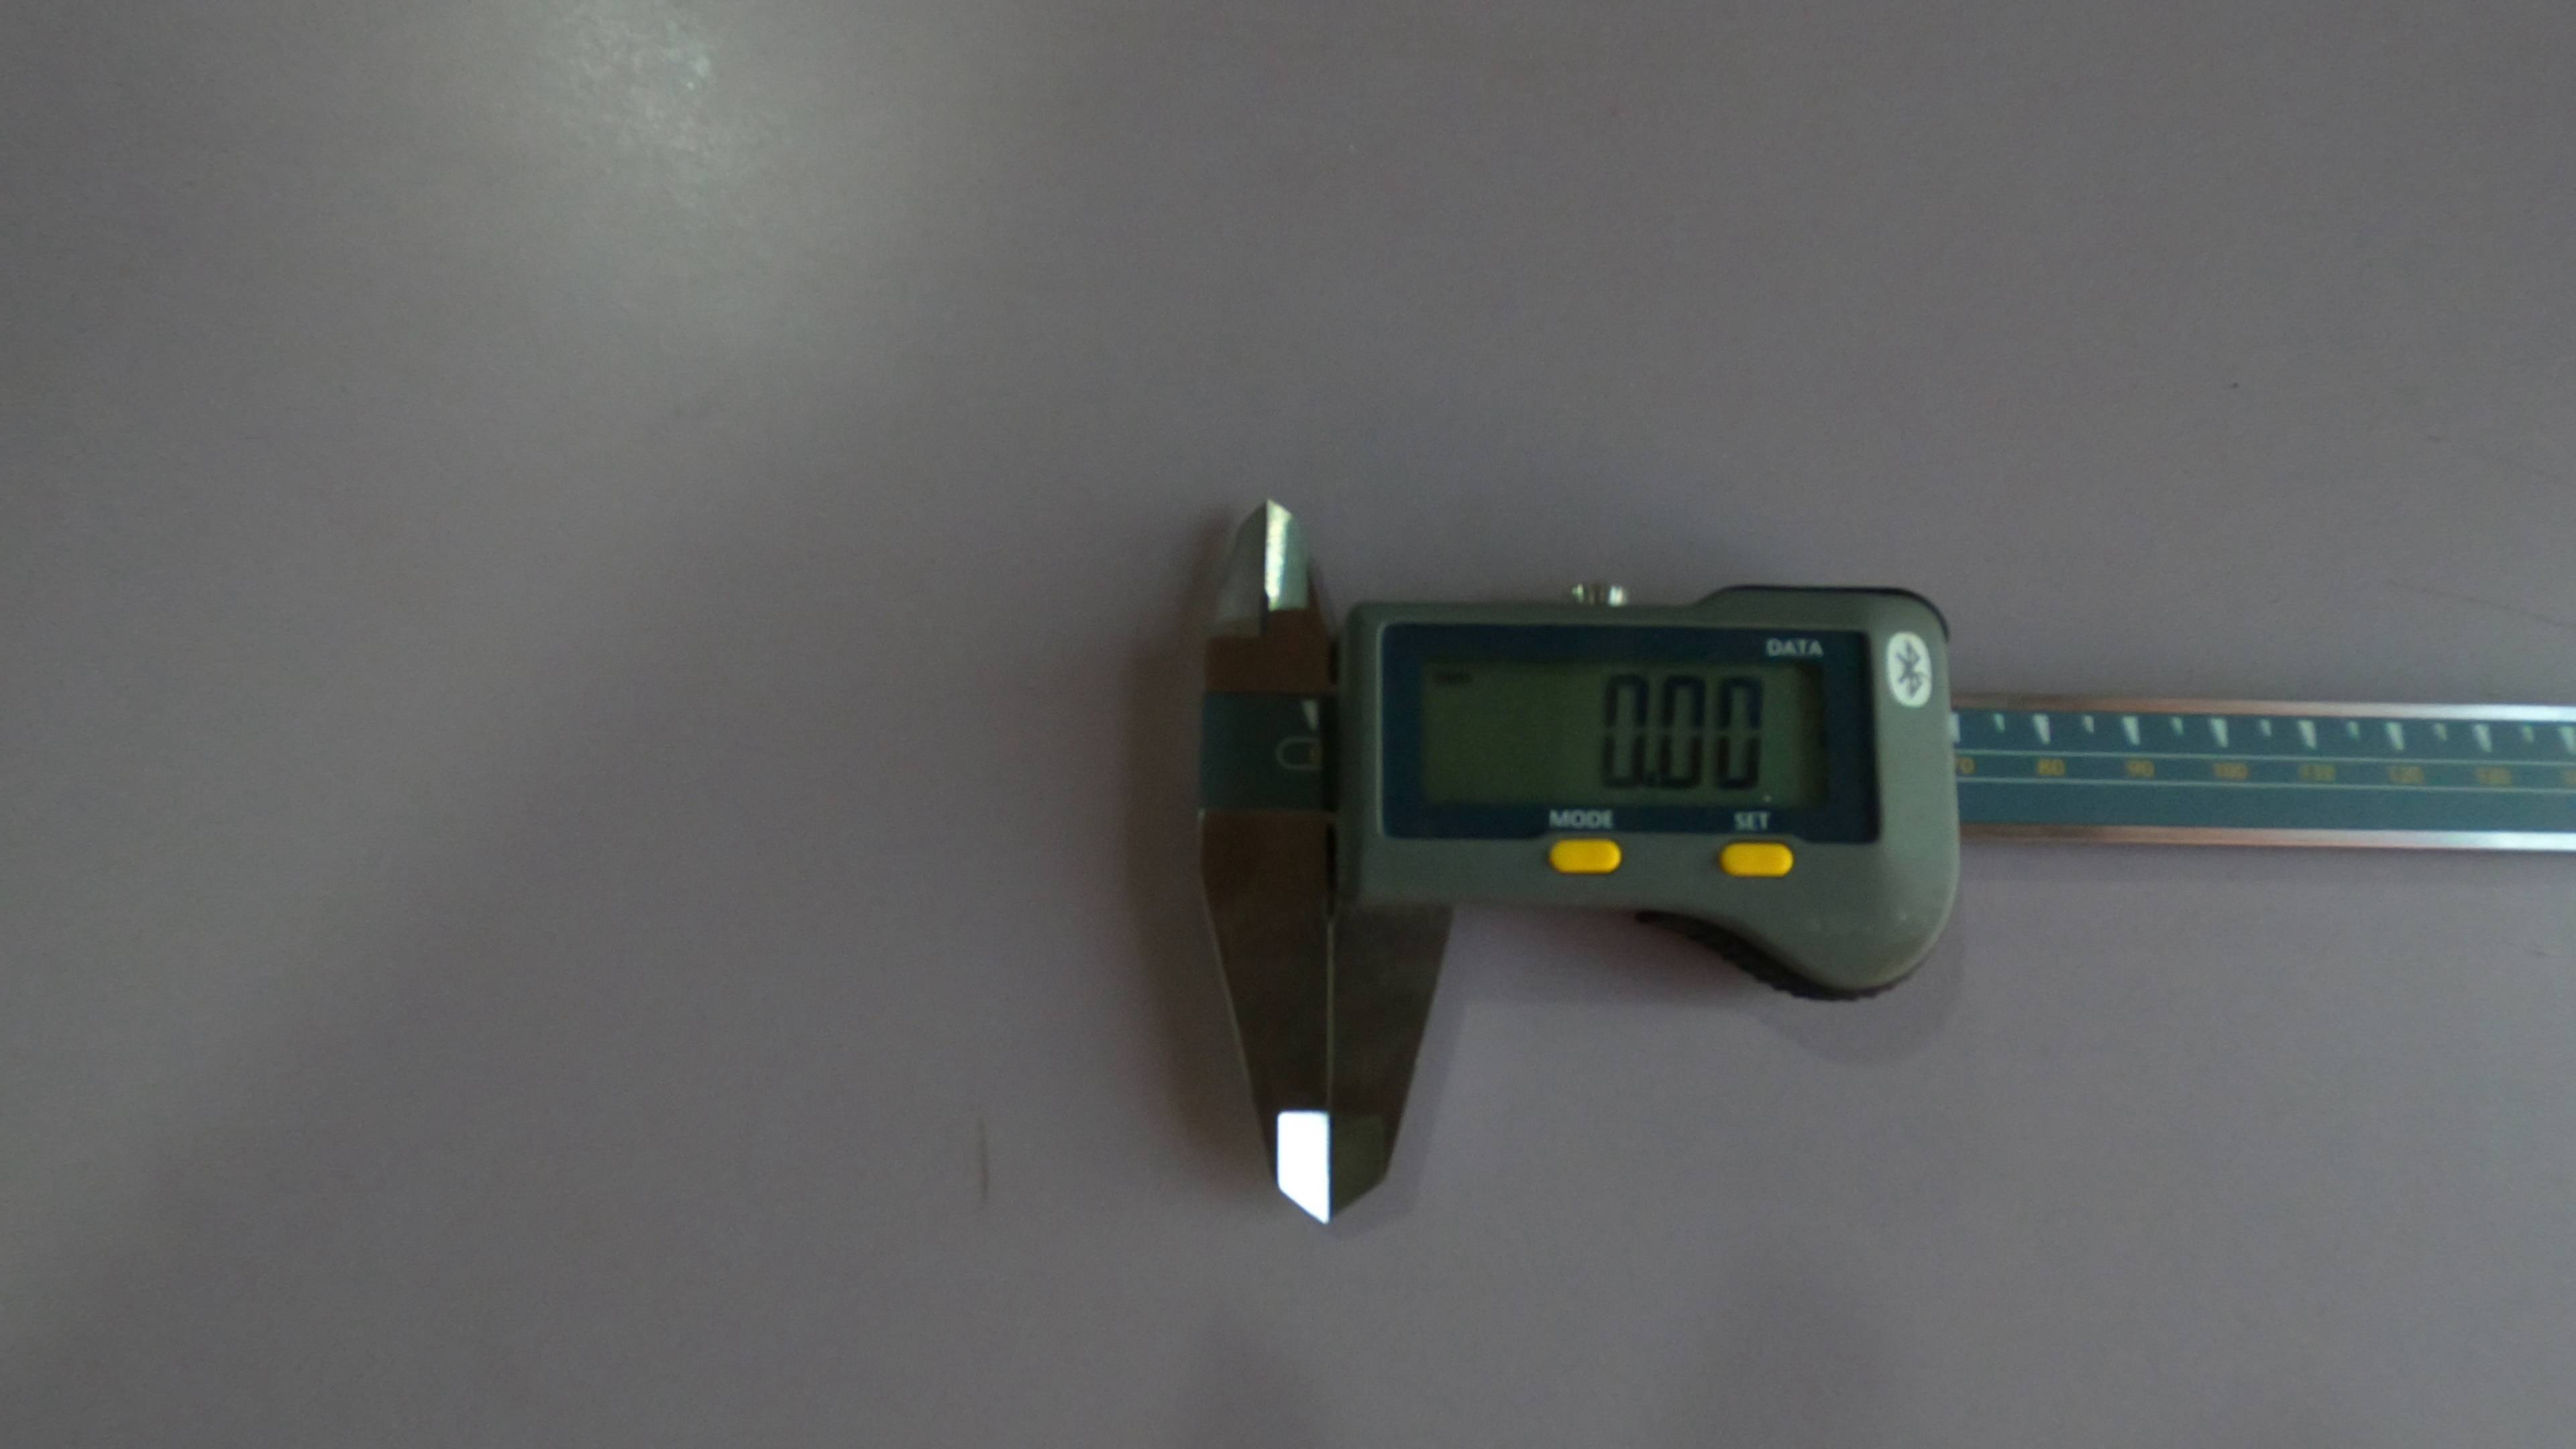vernier_caliper: (1205, 494, 2576, 1226)
